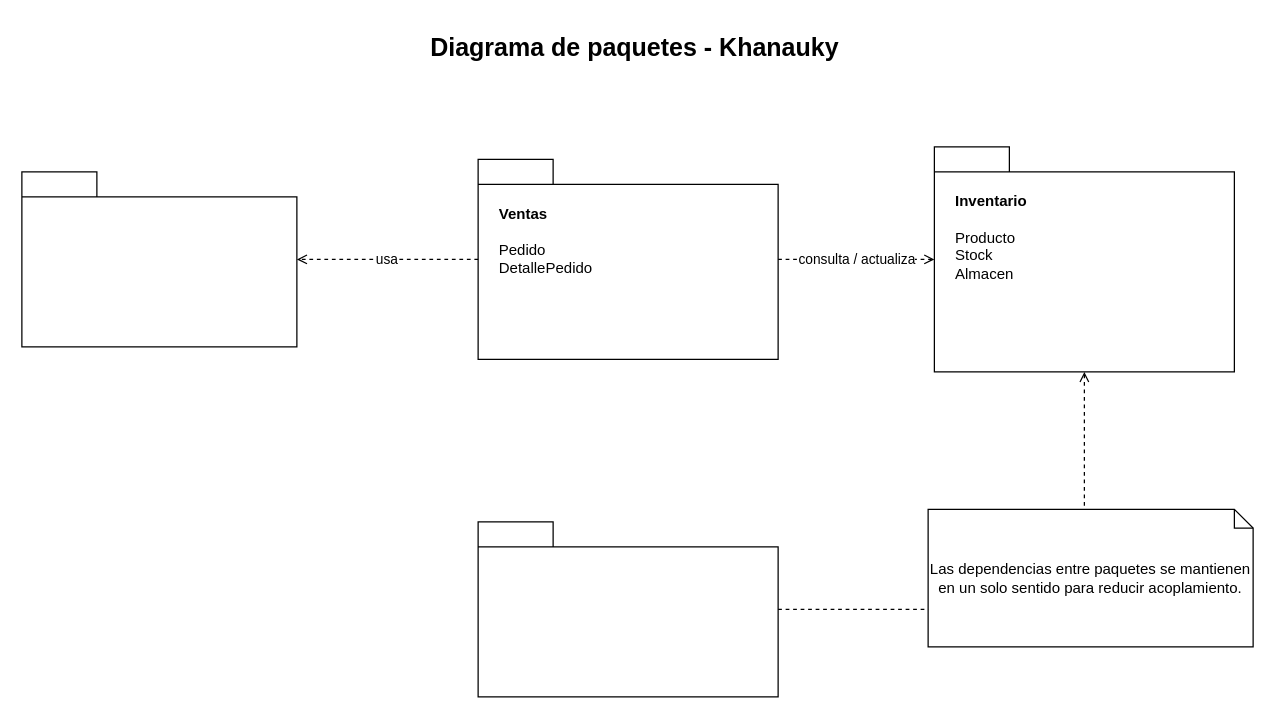
The diagram is 1275 pixels wide and 719 high, and some of its shapes have lost their labels. Here are the shapes that lost their labels. From the top down, the centre of each, then its label:
At [159,259]: "Clientes Cliente".
At [627,609]: "Produccion Produccion".
